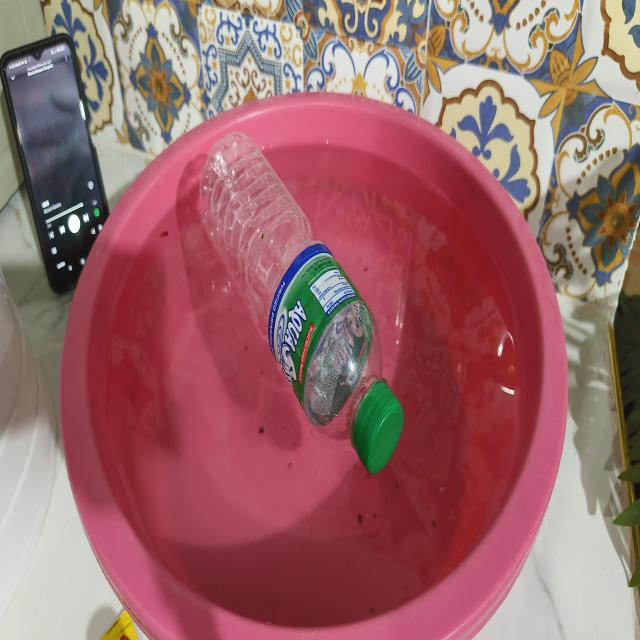Plastic Bottle: (172, 108, 423, 517)
